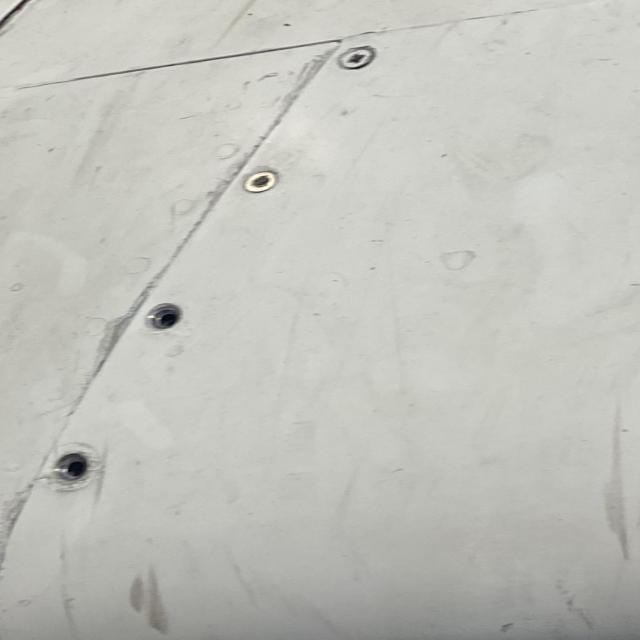Missing-head: (48, 451, 91, 488), (145, 303, 180, 330)
